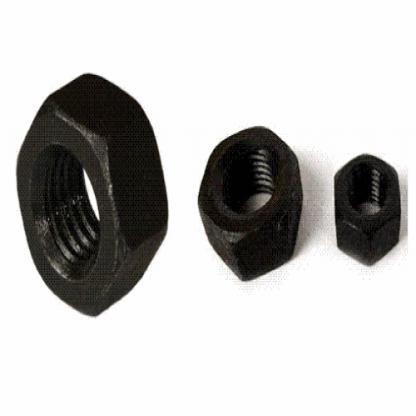FOD: (3, 52, 170, 328), (192, 111, 310, 299), (326, 134, 410, 276)
